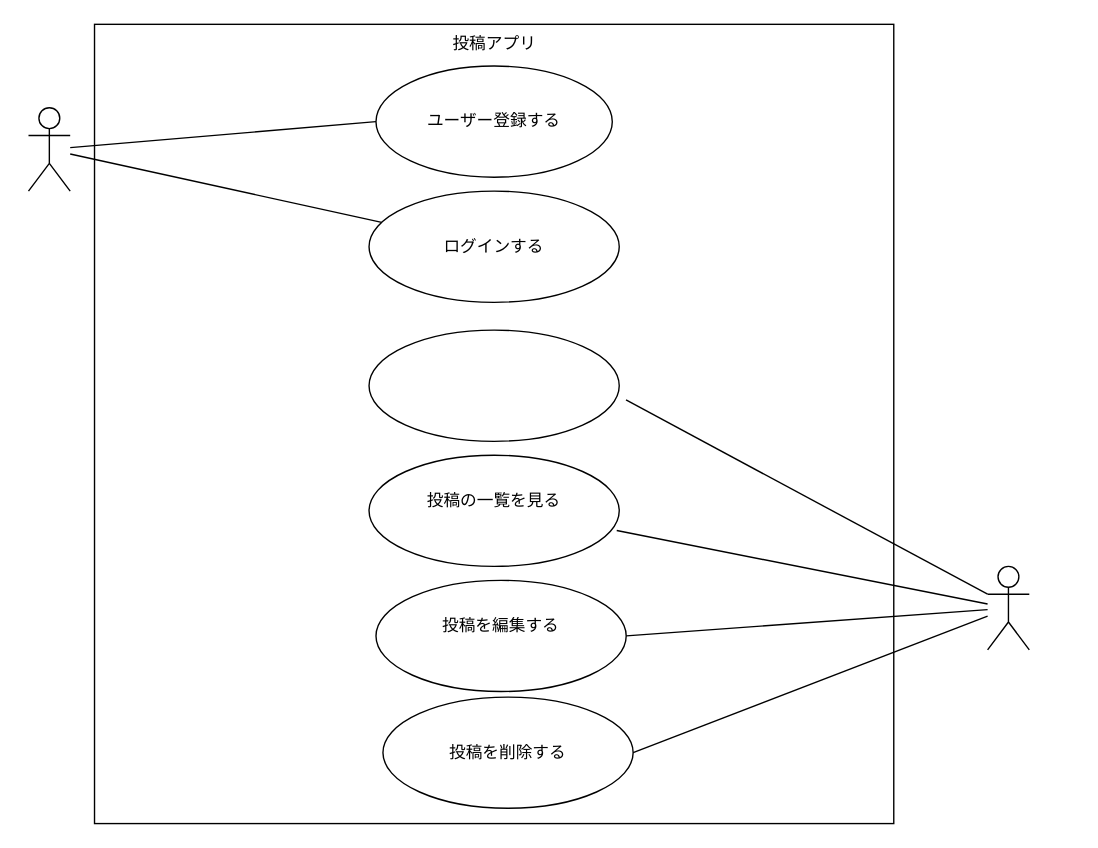
Image size: 1098x848. Some labels were removed from this diagram. Here are the shapes that lost their labels. From the top down, the centre of each, then its label:
[48,148]: 訪問者
[493,385]: ログアウトする
[1007,607]: ログイン済利用者
